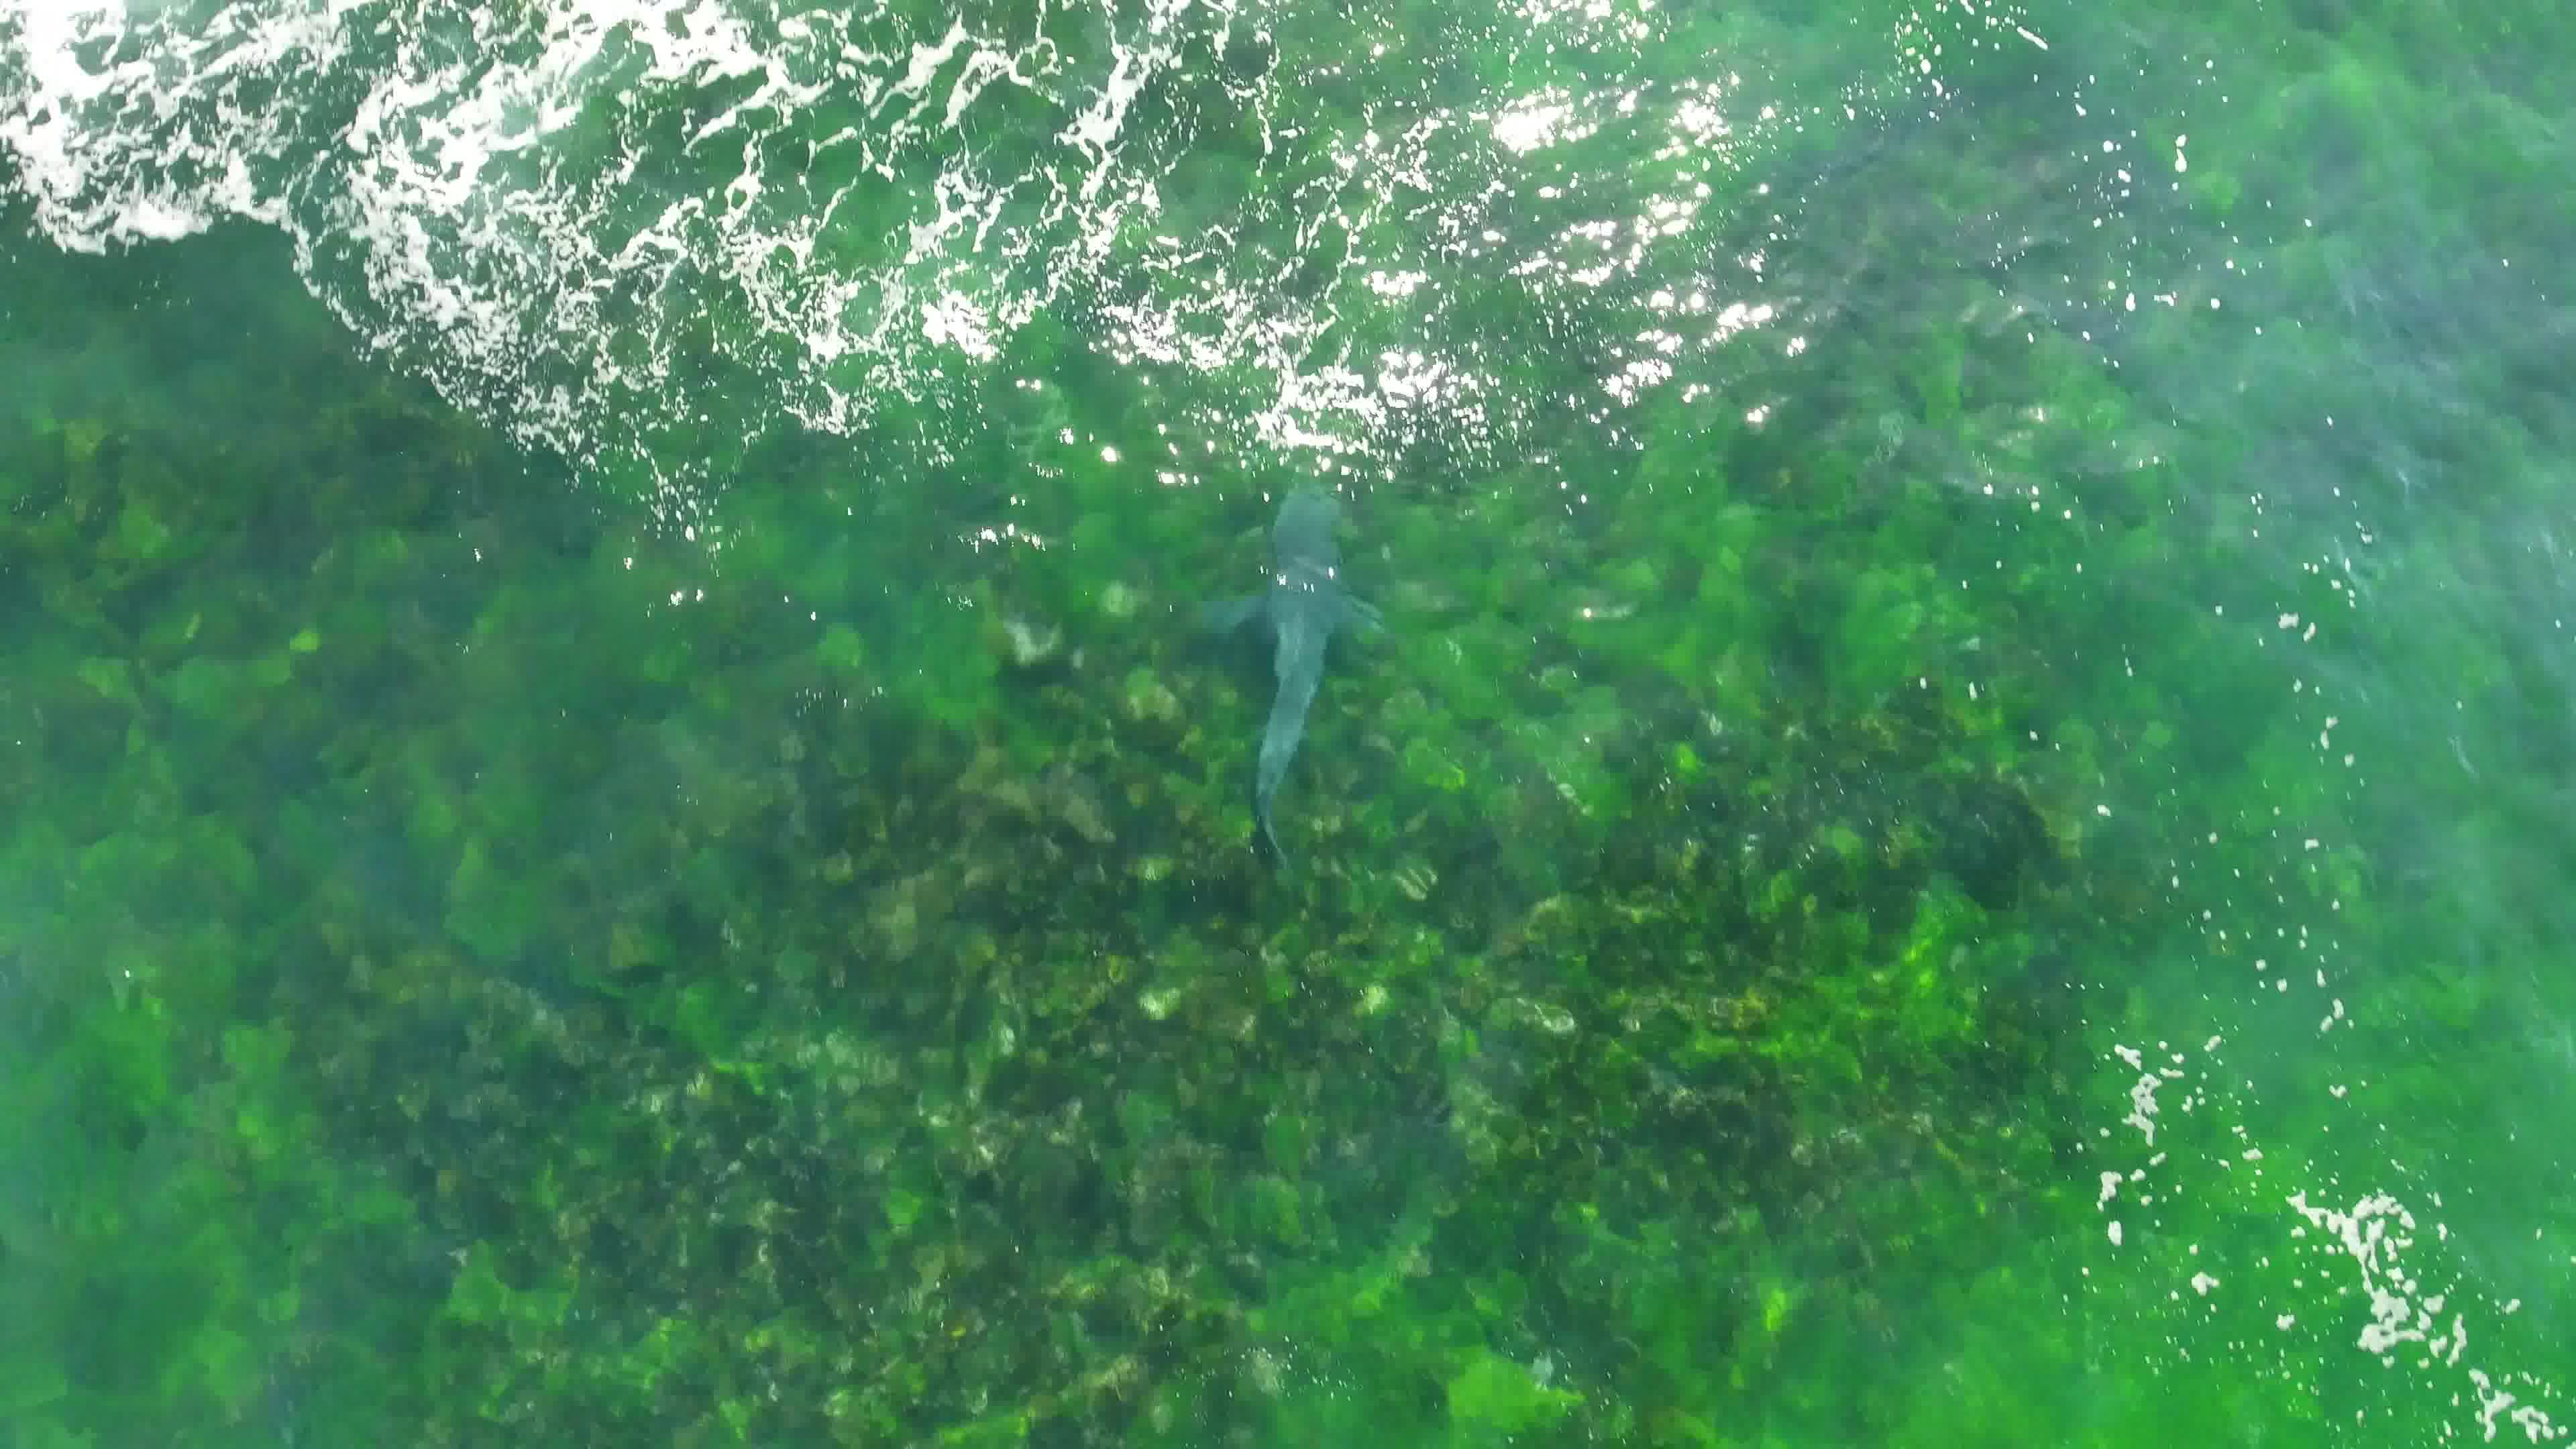shark: (1194, 474, 1391, 878)
